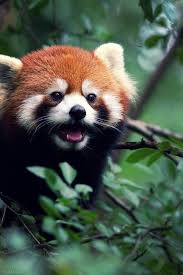redPanda: (0, 35, 145, 216)
